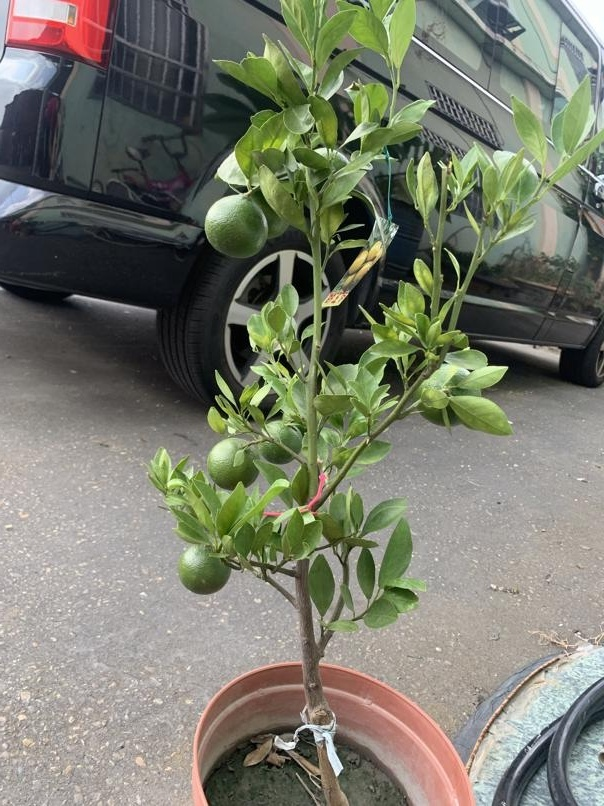Tangerine: (206, 187, 272, 261), (206, 437, 260, 488), (180, 542, 229, 596)
